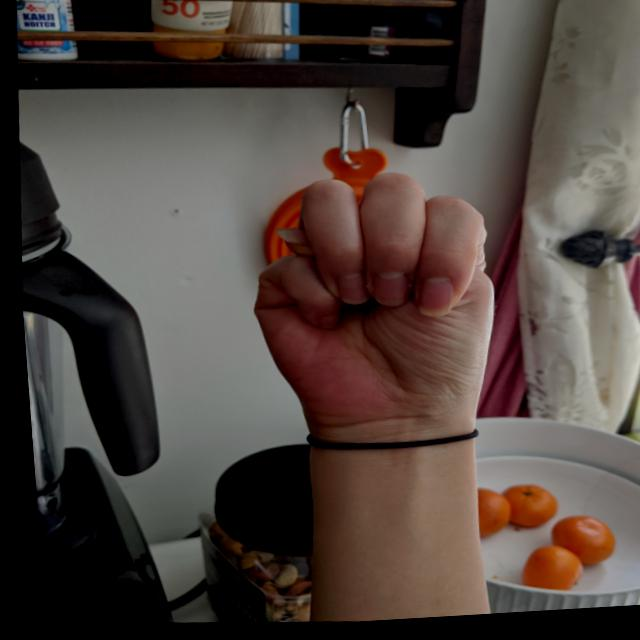M: (225, 157, 514, 450)
